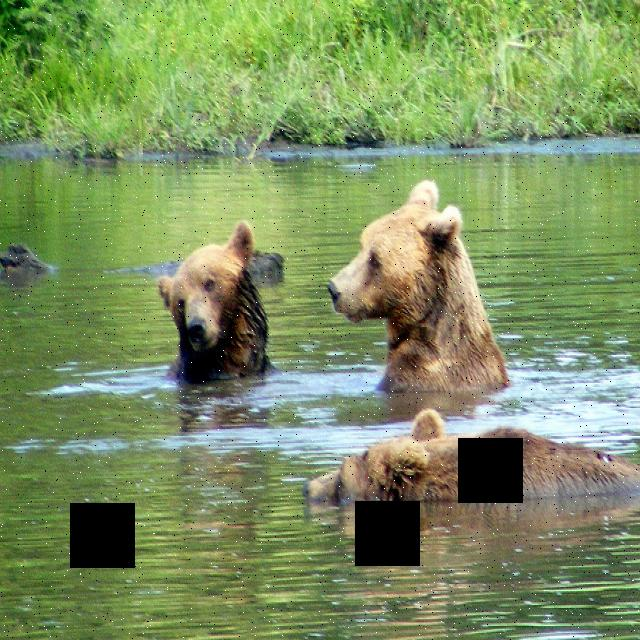Bear: (326, 170, 522, 396), (291, 412, 640, 514), (150, 217, 274, 394)
